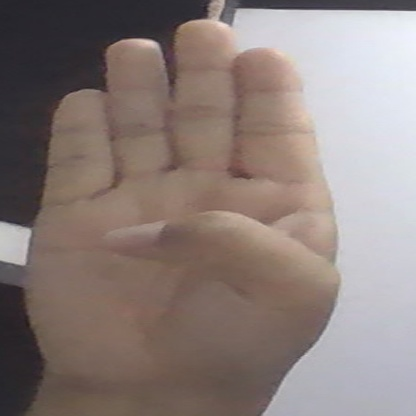B: (24, 19, 340, 398)
